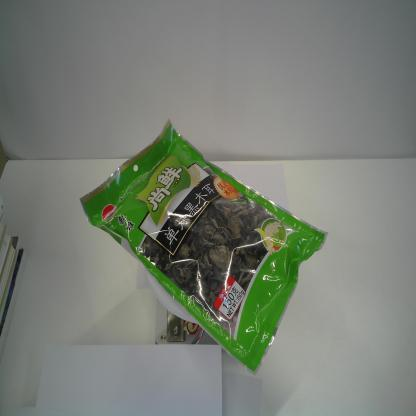Dried Food: (78, 117, 330, 379)
